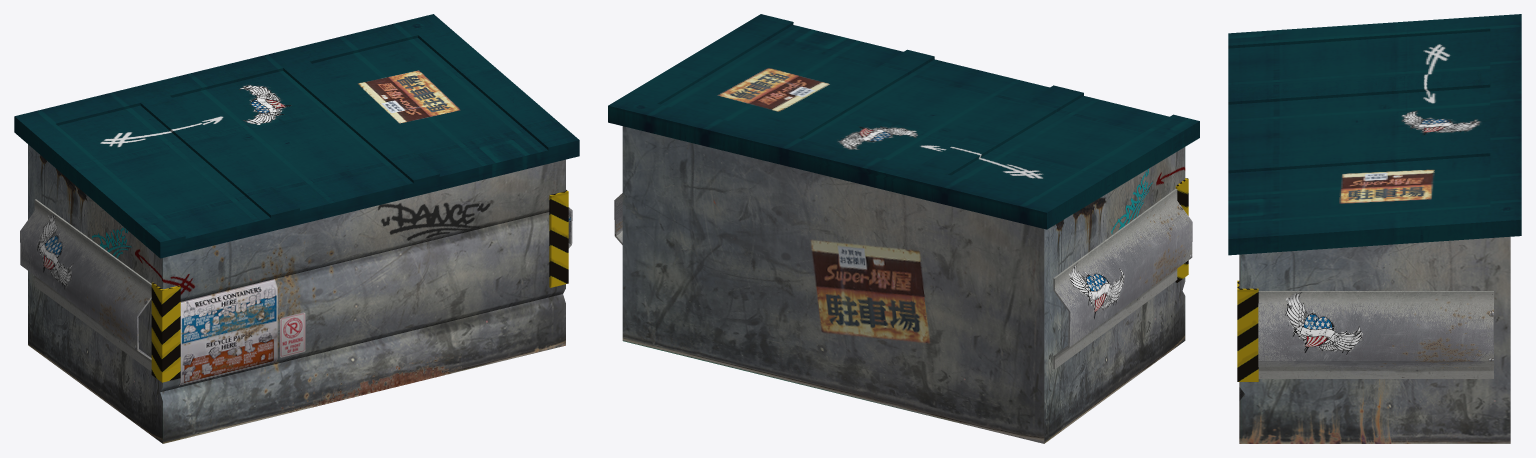
Rendered from contenedor.obj.
3 renders of one model, left to right at view 1: azimuth 30°, elevation 25°; view 2: azimuth 150°, elevation 25°; view 3: azimuth 270°, elevation 25°, orthographic. The views are drawn at different scales.
Visible parts, largest first — view 1: Contenedor; view 2: Contenedor; view 3: Contenedor.
Part boxes in pixels (x1,y1,x2,y2): Contenedor: [14, 14, 579, 443]; Contenedor: [608, 14, 1199, 443]; Contenedor: [1228, 14, 1521, 443].
Size of the model in its own units: 62.74 by 31.22 by 36.41.
1 material, 1 textured.
